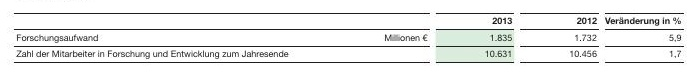table: (0, 0, 695, 73)
